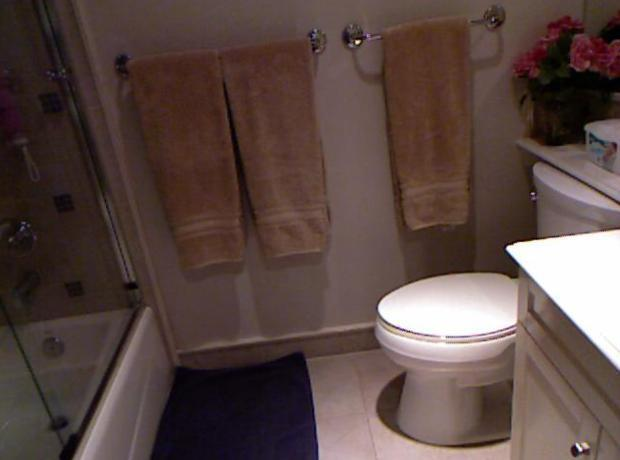Ducha: (2, 1, 162, 458)
Sanitario: (367, 158, 618, 444)
